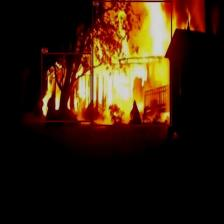fire: (92, 0, 172, 126), (41, 53, 91, 121)
